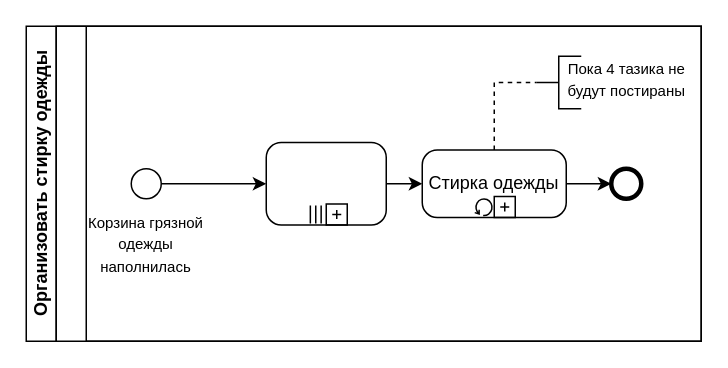
Image size: 728x368. Some labels were removed from this diagram. The centre of each missing label's shape, as x and y in pixels:
Одежда постирана: point (625, 183)
Сортировка одежды: point (325, 183)
